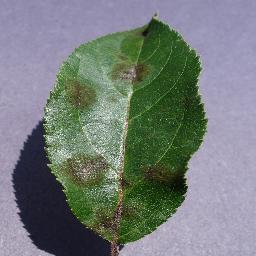apple healthy: (40, 12, 208, 255)
